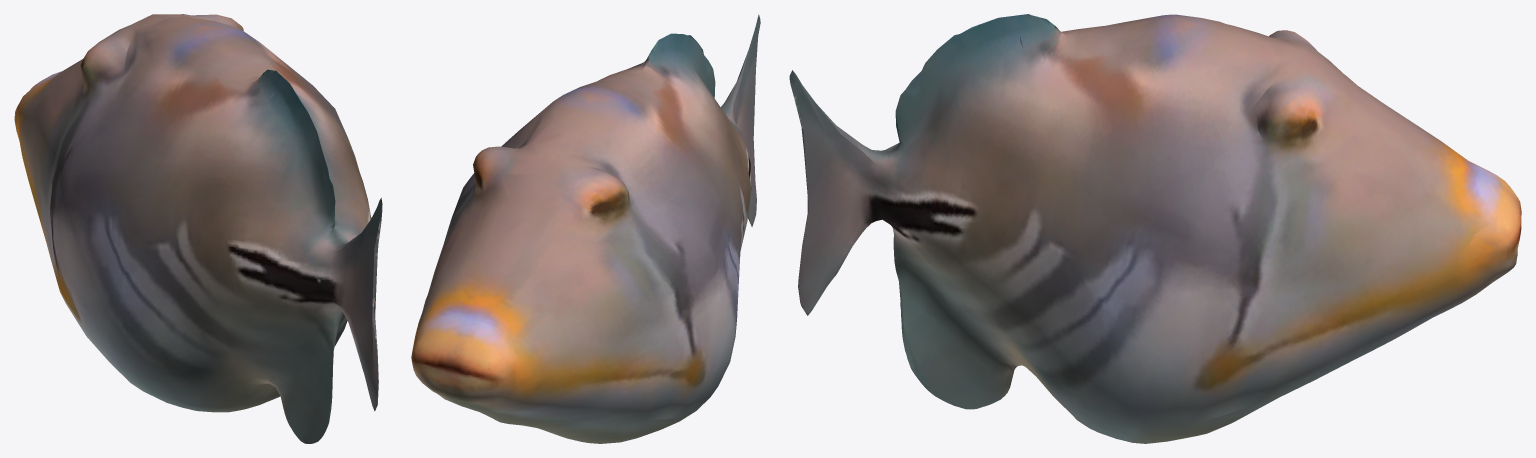
The model's file is Fish.glb.
The picture shows the model from 3 angles, left to right: view 1: azimuth 30°, elevation 25°; view 2: azimuth 150°, elevation 25°; view 3: azimuth 270°, elevation 25°; orthographic projection. The views are drawn at different scales.
Parts seen in each view (by area): view 1: g Handle1; view 2: g Handle1; view 3: g Handle1.
Boxes of the visible parts, box(x1,y1,x2,y2) form: g Handle1: box(14, 14, 382, 443); g Handle1: box(411, 14, 760, 443); g Handle1: box(789, 14, 1521, 443).
Bounding box in the file's own units: 1.36 × 1.79 × 2.85.
1 material, 1 textured.
